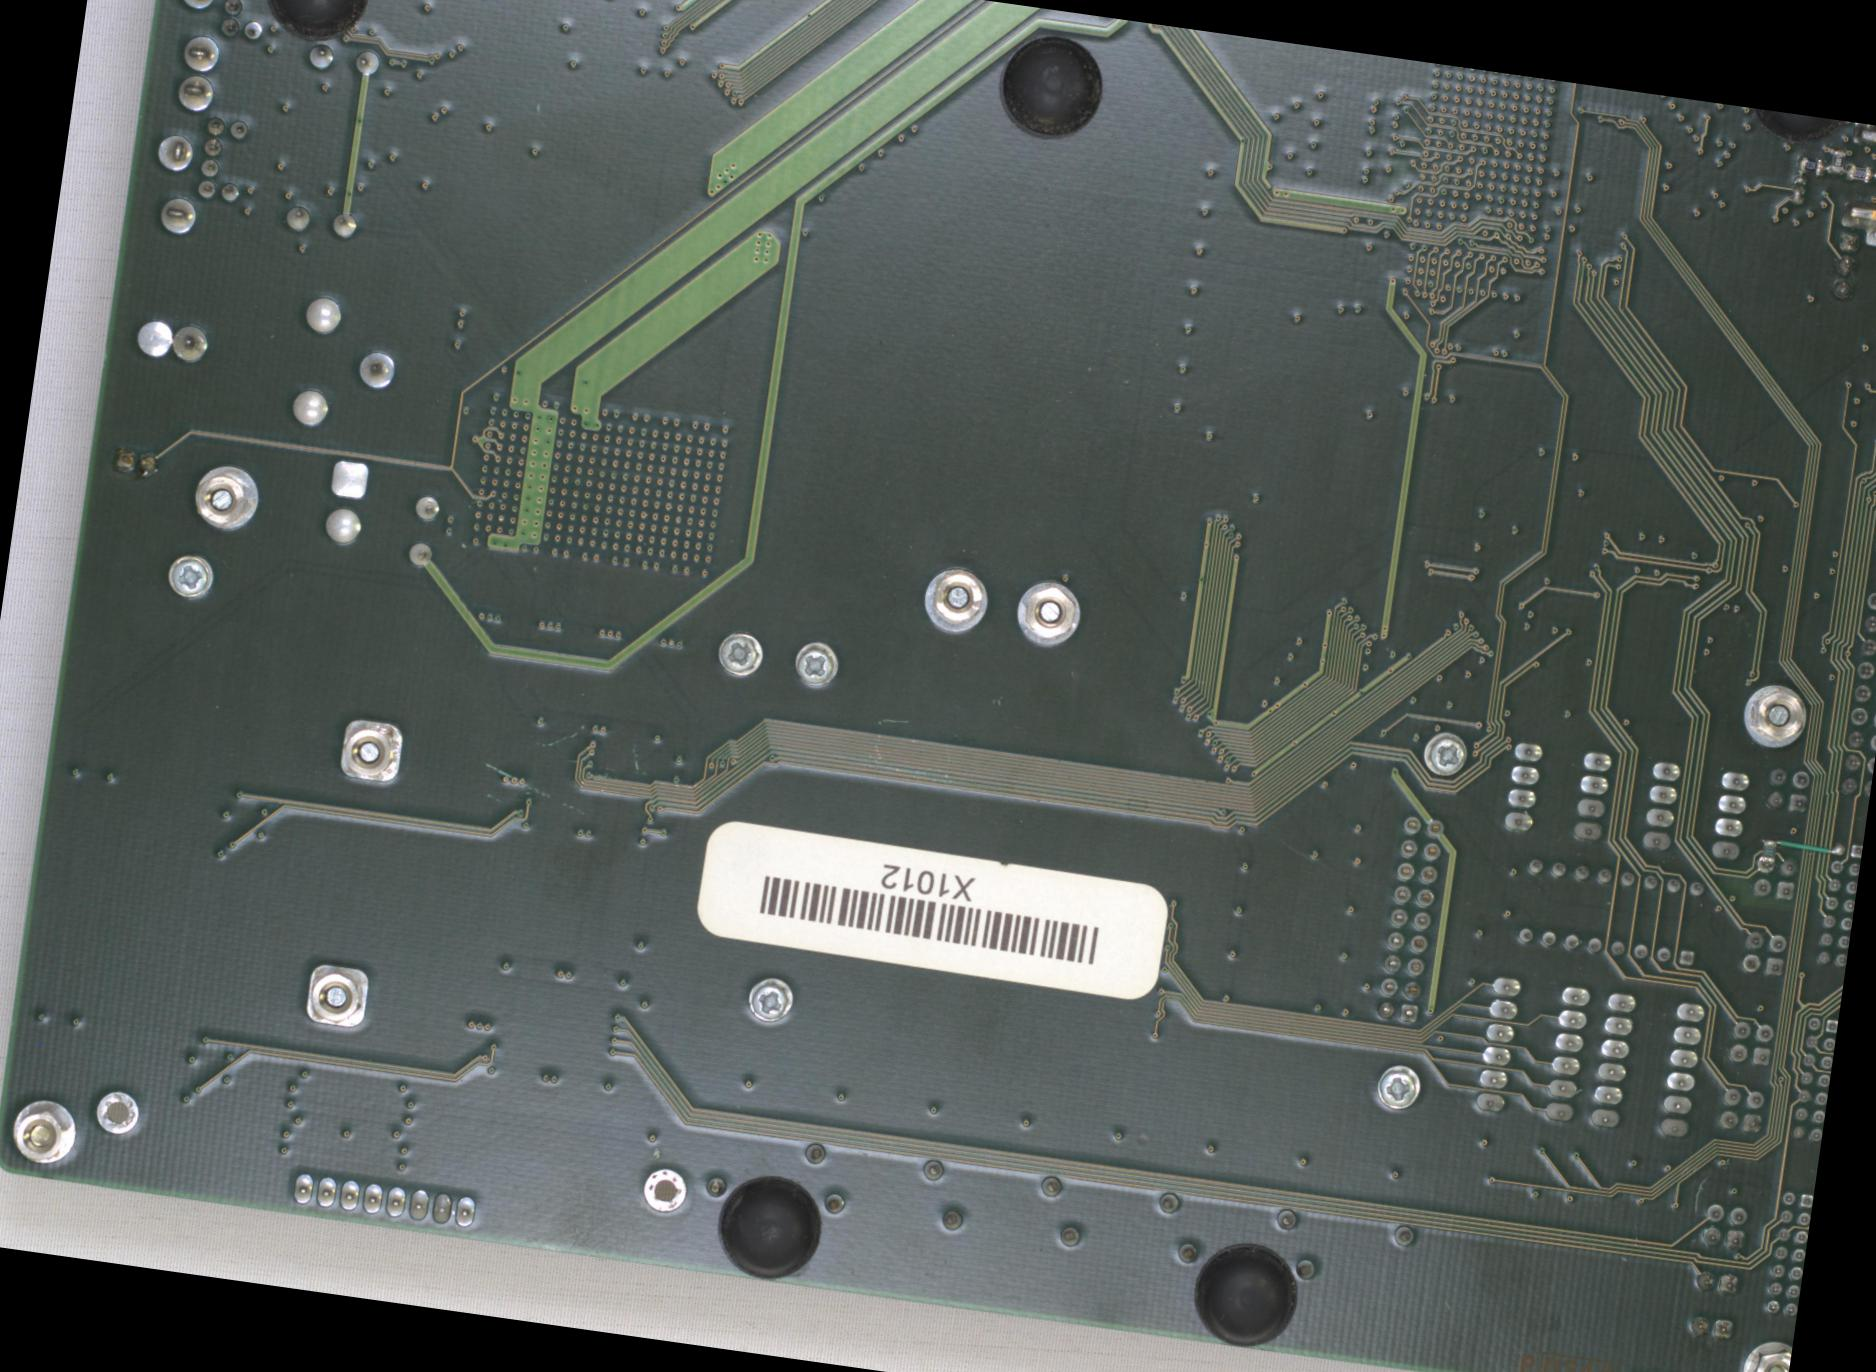Connector: (1834, 122, 1875, 261)
Pins: (696, 1124, 1424, 1299), (1509, 851, 1714, 971), (141, 0, 240, 246), (281, 38, 383, 240), (284, 287, 405, 437), (1372, 810, 1446, 1025), (1542, 982, 1641, 1132), (283, 1164, 482, 1229), (1637, 756, 1754, 864), (1499, 737, 1615, 843), (1834, 586, 1875, 801), (1659, 999, 1713, 1142), (1473, 973, 1525, 1114), (1761, 1186, 1813, 1320), (1812, 837, 1863, 971), (1789, 1014, 1838, 1143), (315, 449, 376, 552), (192, 114, 255, 205), (127, 309, 217, 370), (1685, 1266, 1742, 1341), (402, 486, 450, 571), (1761, 763, 1813, 814), (1716, 1085, 1768, 1136), (216, 0, 275, 44), (1698, 1200, 1749, 1251), (1752, 851, 1802, 902), (1739, 926, 1790, 976), (1727, 1018, 1778, 1066), (1829, 229, 1861, 300)
Resistor Network: (1826, 147, 1845, 173), (1797, 154, 1821, 175), (1762, 836, 1778, 862), (1847, 163, 1870, 181)
